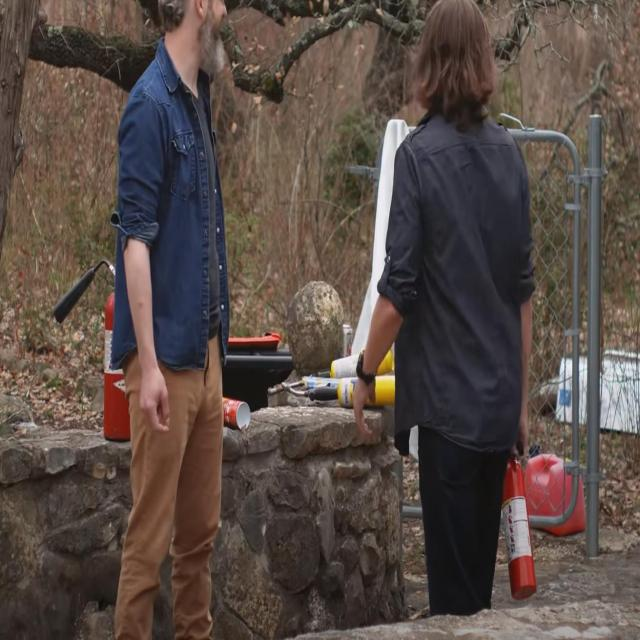fire_extinguisher: (47, 230, 144, 465), (495, 431, 537, 611)
